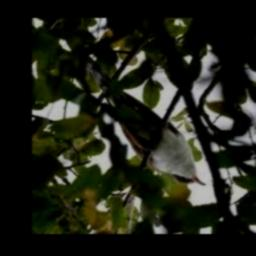Cuckoo: (83, 57, 205, 187)
